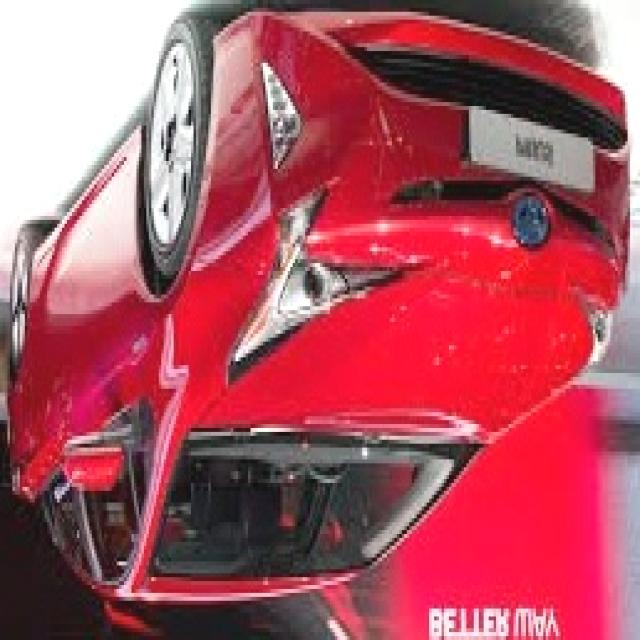red: (8, 24, 640, 640)
